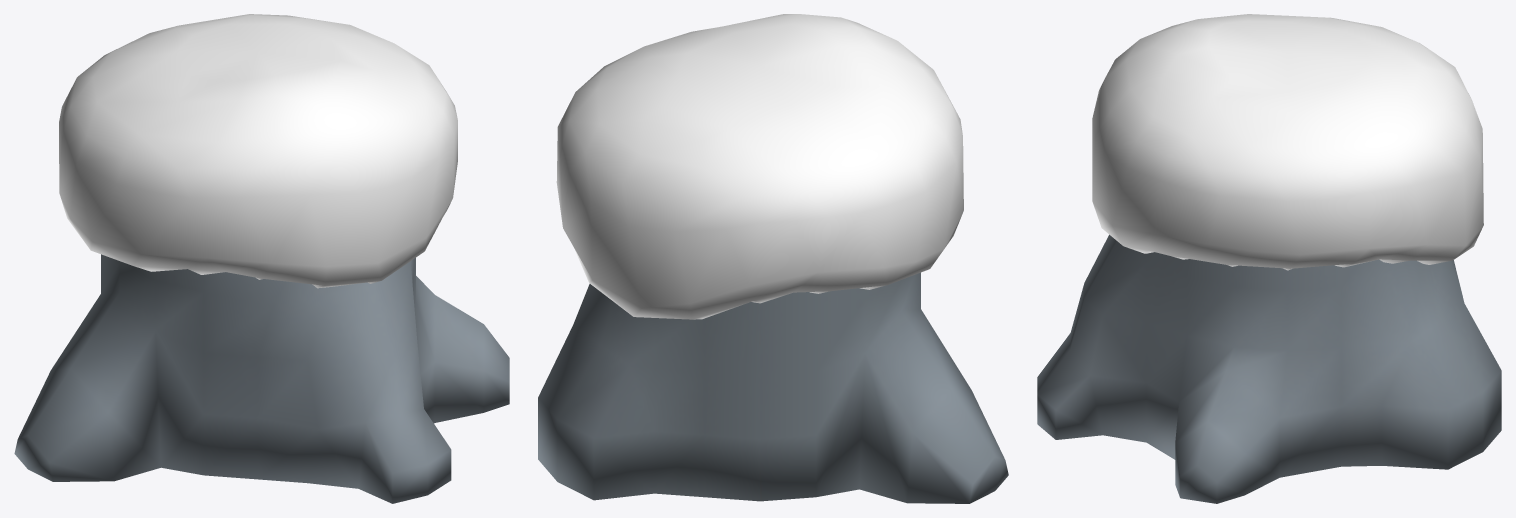
The model's file is SnowStump.FBX.
3 views of the same model, side by side, from view 1: azimuth 30°, elevation 25°; view 2: azimuth 150°, elevation 25°; view 3: azimuth 270°, elevation 25° (orthographic). The views are drawn at different scales.
Visible parts, largest first — view 1: Object001, Stump; view 2: Object001, Stump; view 3: Stump, Object001.
Boxes of the visible parts, x1,y1,x2,y2 form: Object001: (59, 14, 457, 288); Stump: (14, 254, 509, 503); Object001: (556, 14, 963, 319); Stump: (538, 272, 1008, 503); Stump: (1037, 234, 1501, 503); Object001: (1092, 14, 1483, 270).
Size of the model in its own units: 30.05 by 28.14 by 24.35.
Materials: 2 (1 with a texture image).
